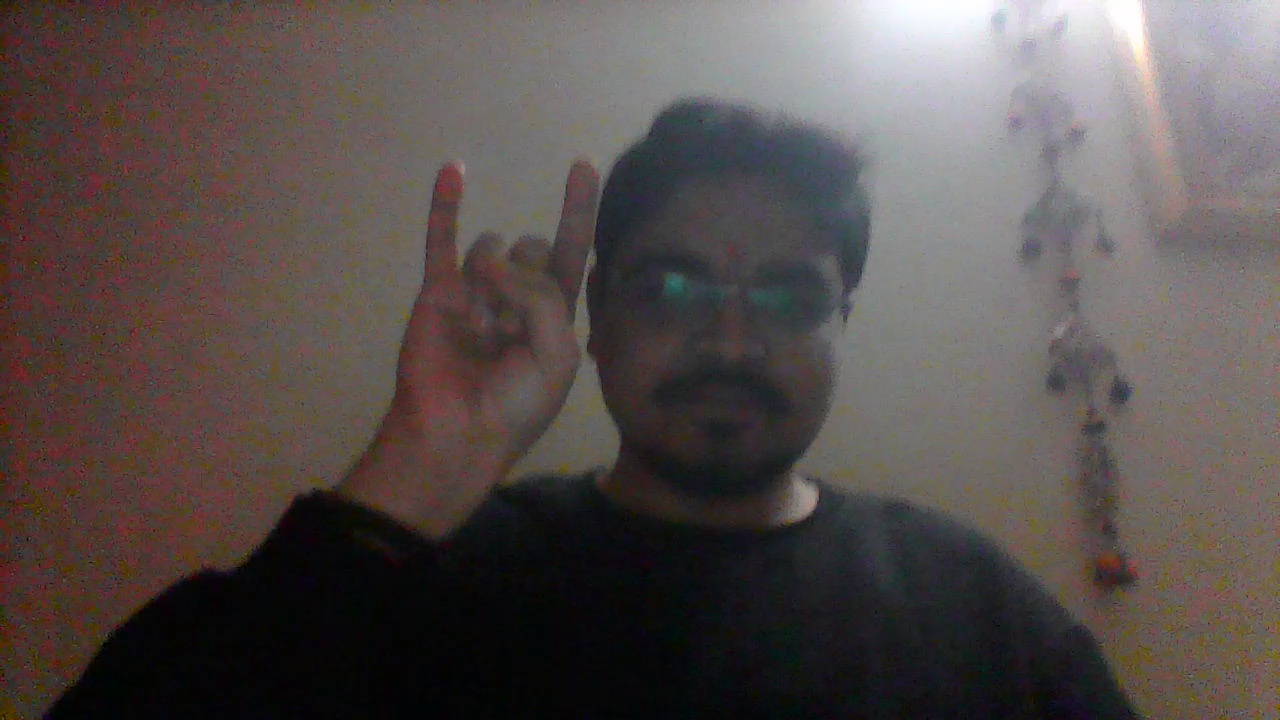ILoveYou: (394, 157, 604, 434)
